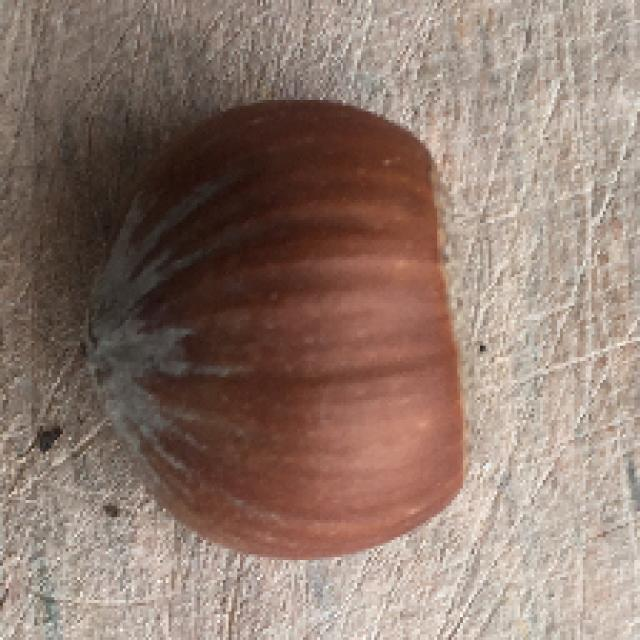qualityHazelnut: (99, 99, 475, 561)
